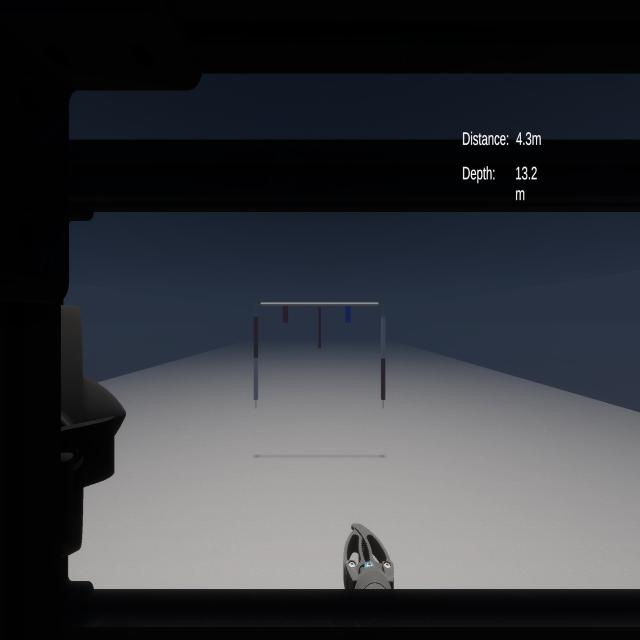Depth: (456, 160, 547, 205)
Distance: (454, 121, 548, 155)
Gate: (238, 276, 408, 421)
